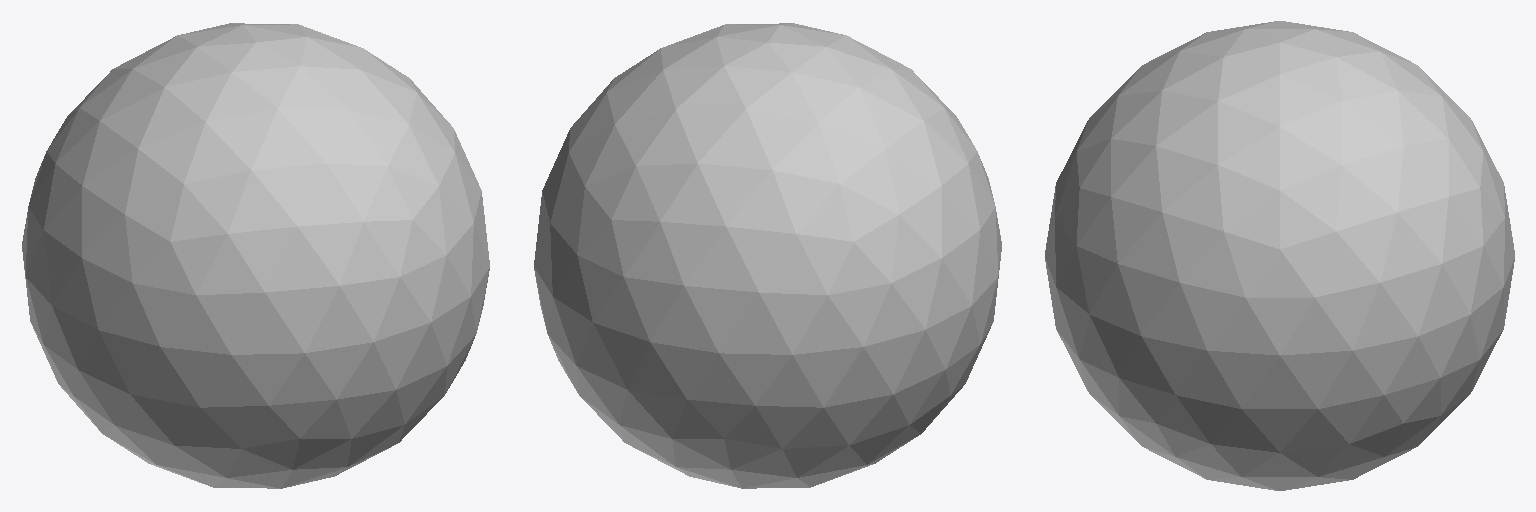
Rendered from item_tank_sphere1.obj.
3 renders of one model, left to right at view 1: azimuth 30°, elevation 25°; view 2: azimuth 150°, elevation 25°; view 3: azimuth 270°, elevation 25°, orthographic.
Parts seen in each view (by area): view 1: Icosphere_Icosphere.003; view 2: Icosphere_Icosphere.003; view 3: Icosphere_Icosphere.003.
Part boxes in pixels (x1,y1,x2,y2): Icosphere_Icosphere.003: (22, 23, 489, 488); Icosphere_Icosphere.003: (534, 23, 1001, 488); Icosphere_Icosphere.003: (1045, 21, 1514, 490).
Size of the model in its own units: 0.2 by 0.2 by 0.2.